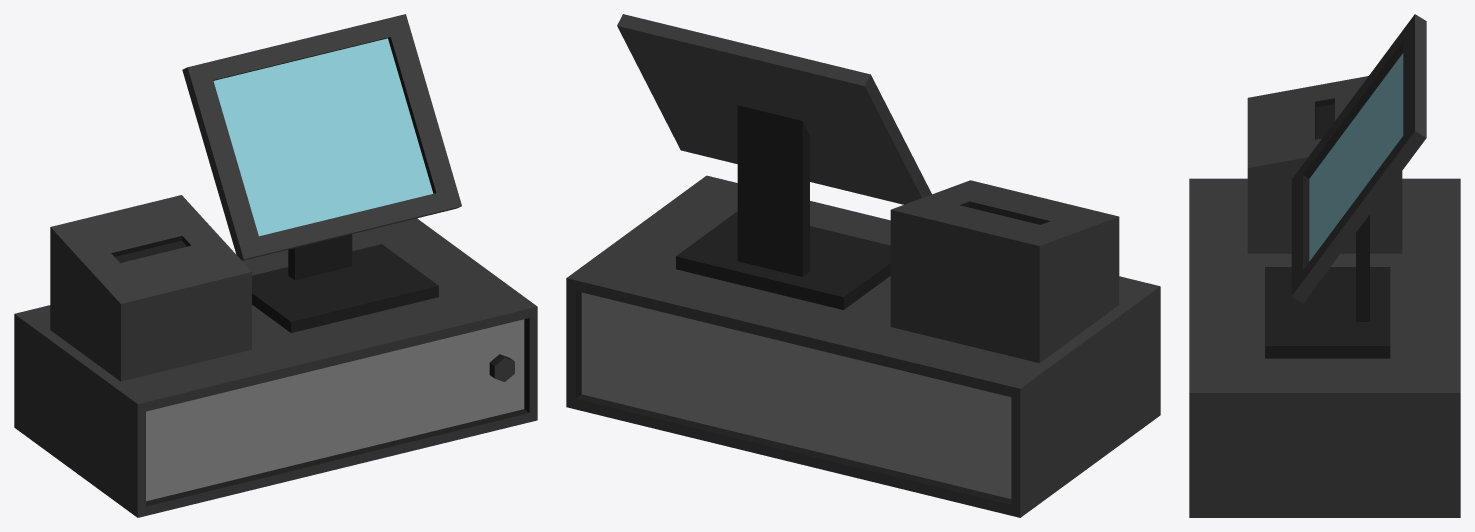
File: cashier-machine_02.fbx
3 renders of one model, left to right at view 1: azimuth 30°, elevation 25°; view 2: azimuth 150°, elevation 25°; view 3: azimuth 270°, elevation 25°, orthographic. The views are drawn at different scales.
Parts seen in each view (by area): view 1: Cube, Cube.004, Cube.001, Cube.002, Cube.003; view 2: Cube, Cube.001, Cube.004, Cube.003, Cube.002; view 3: Cube, Cube.004, Cube.001, Cube.002, Cube.003.
Part boxes in pixels (x1=…): Cube: x1=14, y1=218, x2=537, y2=517; Cube.004: x1=182, y1=14, x2=461, y2=260; Cube.001: x1=50, y1=195, x2=251, y2=381; Cube.002: x1=252, y1=244, x2=438, y2=332; Cube.003: x1=288, y1=234, x2=352, y2=280; Cube: x1=566, y1=175, x2=1160, y2=517; Cube.001: x1=890, y1=180, x2=1119, y2=363; Cube.004: x1=617, y1=14, x2=931, y2=204; Cube.003: x1=737, y1=105, x2=809, y2=276; Cube.002: x1=676, y1=211, x2=890, y2=309; Cube: x1=1189, y1=178, x2=1460, y2=517; Cube.004: x1=1291, y1=14, x2=1426, y2=303; Cube.001: x1=1247, y1=76, x2=1402, y2=253; Cube.002: x1=1265, y1=267, x2=1390, y2=358; Cube.003: x1=1356, y1=214, x2=1369, y2=321.
Size of the model in its own units: 60.06 by 48.56 by 32.12.
